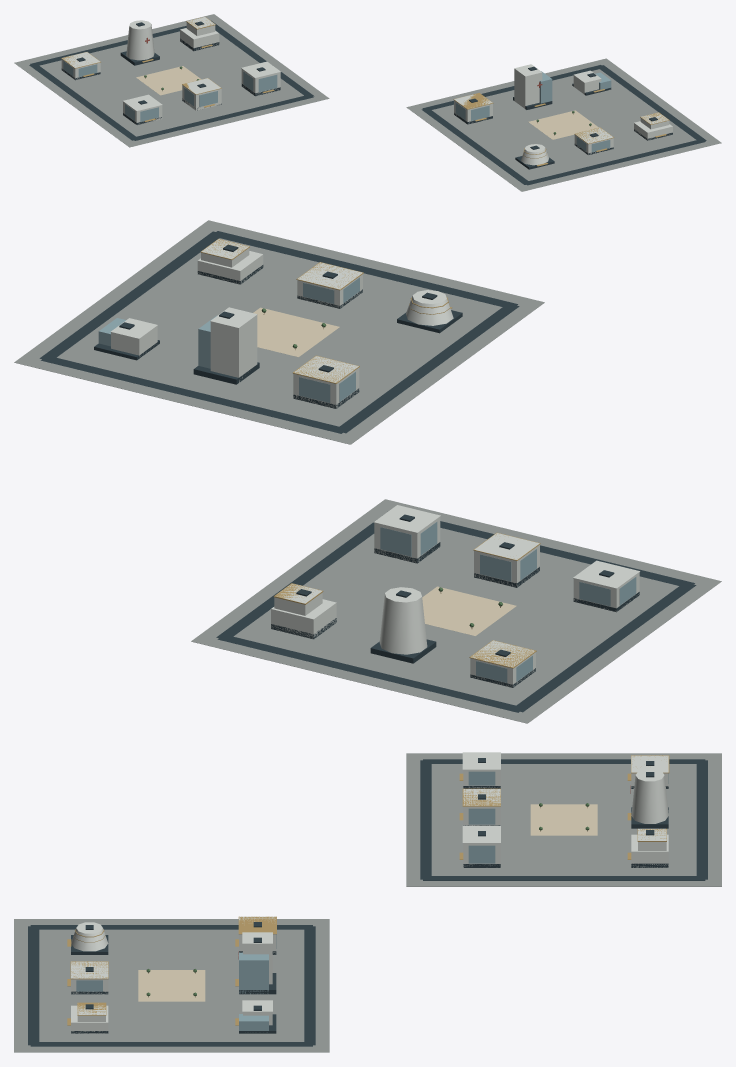
The model's file is GC-TILE-05-25.glb.
The picture shows the model from 3 angles, top to bottom: view 1: azimuth 30°, elevation 25°; view 2: azimuth 150°, elevation 25°; view 3: azimuth 270°, elevation 25°; orthographic projection. The views are drawn at different scales.
Parts seen in each view (by area): view 1: GC-TILE-05-25-paving, GC-TILE-05-25-white, GC-TILE-05-25-dark, GC-TILE-05-25-glass, GC-TILE-05-25-ivory, GC-TILE-05-25-gold; view 2: GC-TILE-05-25-paving, GC-TILE-05-25-white, GC-TILE-05-25-dark, GC-TILE-05-25-glass, GC-TILE-05-25-ivory, GC-TILE-05-25-gold; view 3: GC-TILE-05-25-paving, GC-TILE-05-25-dark, GC-TILE-05-25-white, GC-TILE-05-25-ivory, GC-TILE-05-25-glass, GC-TILE-05-25-gold.
Boxes of the visible parts, x1,y1,x2,y2 form: GC-TILE-05-25-paving: [14, 14, 721, 191]; GC-TILE-05-25-white: [61, 17, 672, 165]; GC-TILE-05-25-dark: [29, 20, 706, 185]; GC-TILE-05-25-glass: [63, 61, 611, 152]; GC-TILE-05-25-ivory: [136, 66, 598, 139]; GC-TILE-05-25-gold: [61, 17, 669, 166]; GC-TILE-05-25-paving: [14, 220, 721, 723]; GC-TILE-05-25-white: [111, 239, 640, 687]; GC-TILE-05-25-dark: [39, 231, 696, 712]; GC-TILE-05-25-glass: [98, 277, 636, 682]; GC-TILE-05-25-ivory: [253, 307, 516, 635]; GC-TILE-05-25-gold: [200, 238, 540, 668]; GC-TILE-05-25-paving: [14, 753, 721, 1052]; GC-TILE-05-25-dark: [28, 758, 707, 1046]; GC-TILE-05-25-white: [71, 752, 668, 1033]; GC-TILE-05-25-ivory: [138, 804, 597, 1001]; GC-TILE-05-25-glass: [76, 771, 668, 1032]; GC-TILE-05-25-gold: [67, 755, 669, 1025].
Bounding box in the file's own units: 758 × 54.48 × 758.
